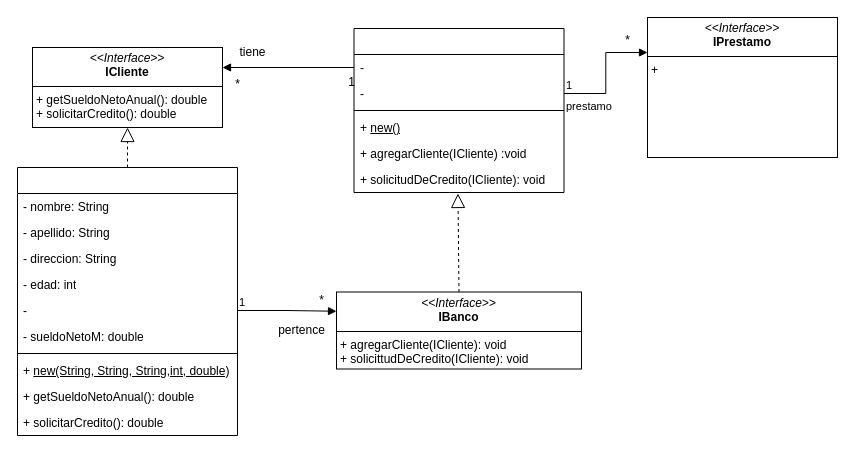
The diagram is 855 pixels wide and 456 high, and some of its shapes have lost their labels. Here are the shapes that lost their labels. From the top down, the box of each, then its label:
(353, 28, 564, 192): Banco
(16, 166, 238, 436): Cliente
